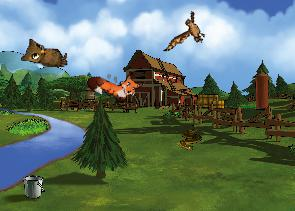eagle: (163, 6, 211, 61)
fox: (84, 56, 146, 110)
owl: (21, 38, 68, 67)
